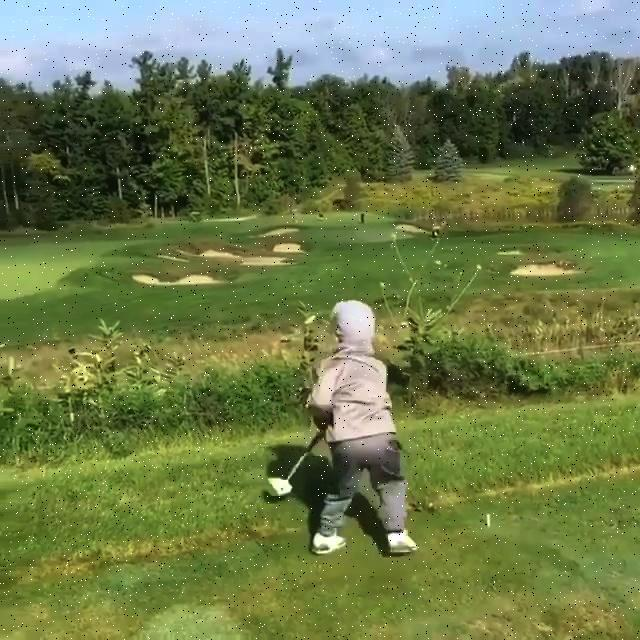ClubHead: (267, 476, 292, 498)
